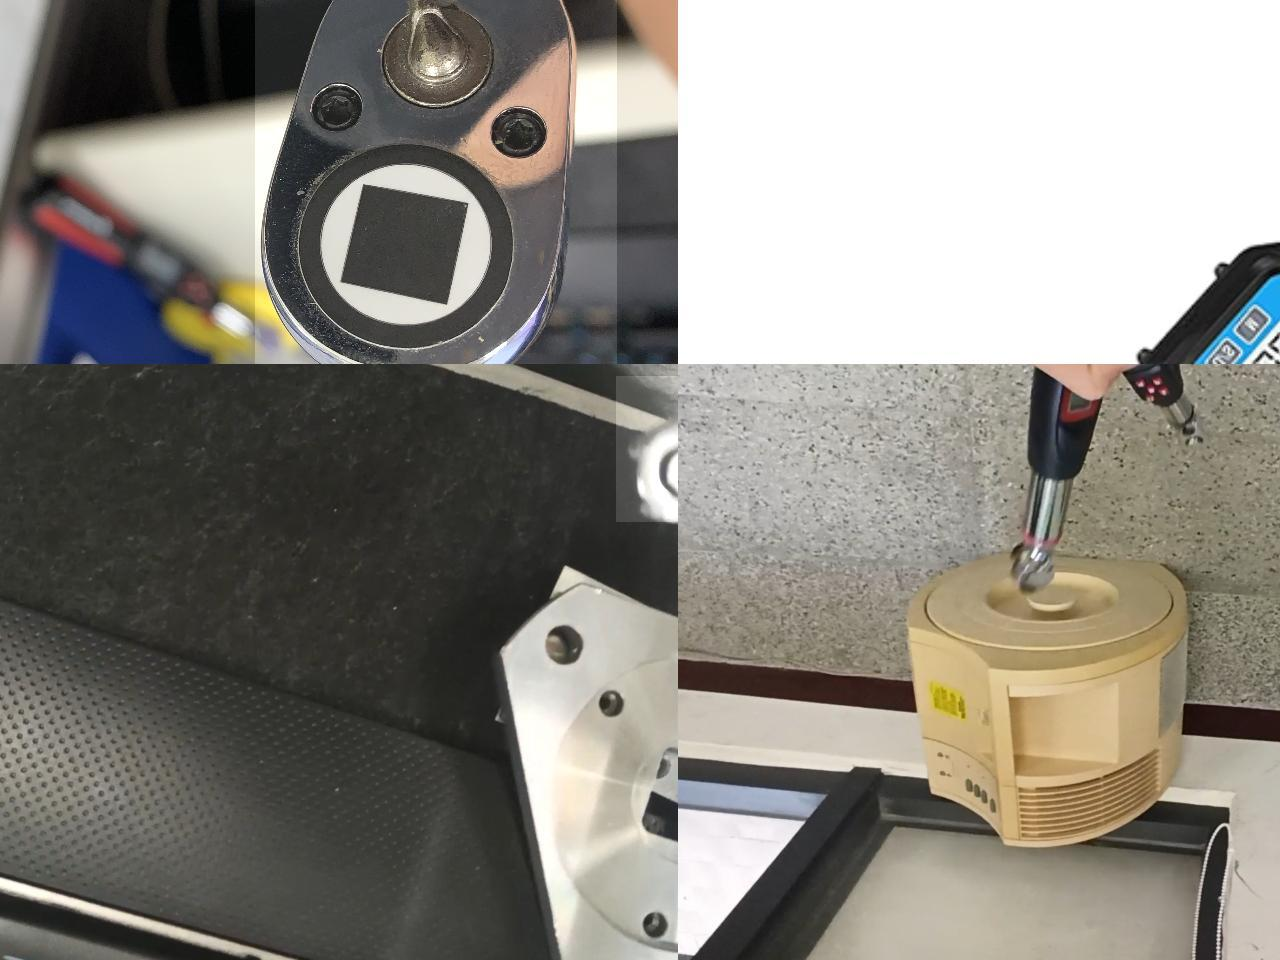Tool: (254, 0, 616, 364), (615, 375, 678, 521)
